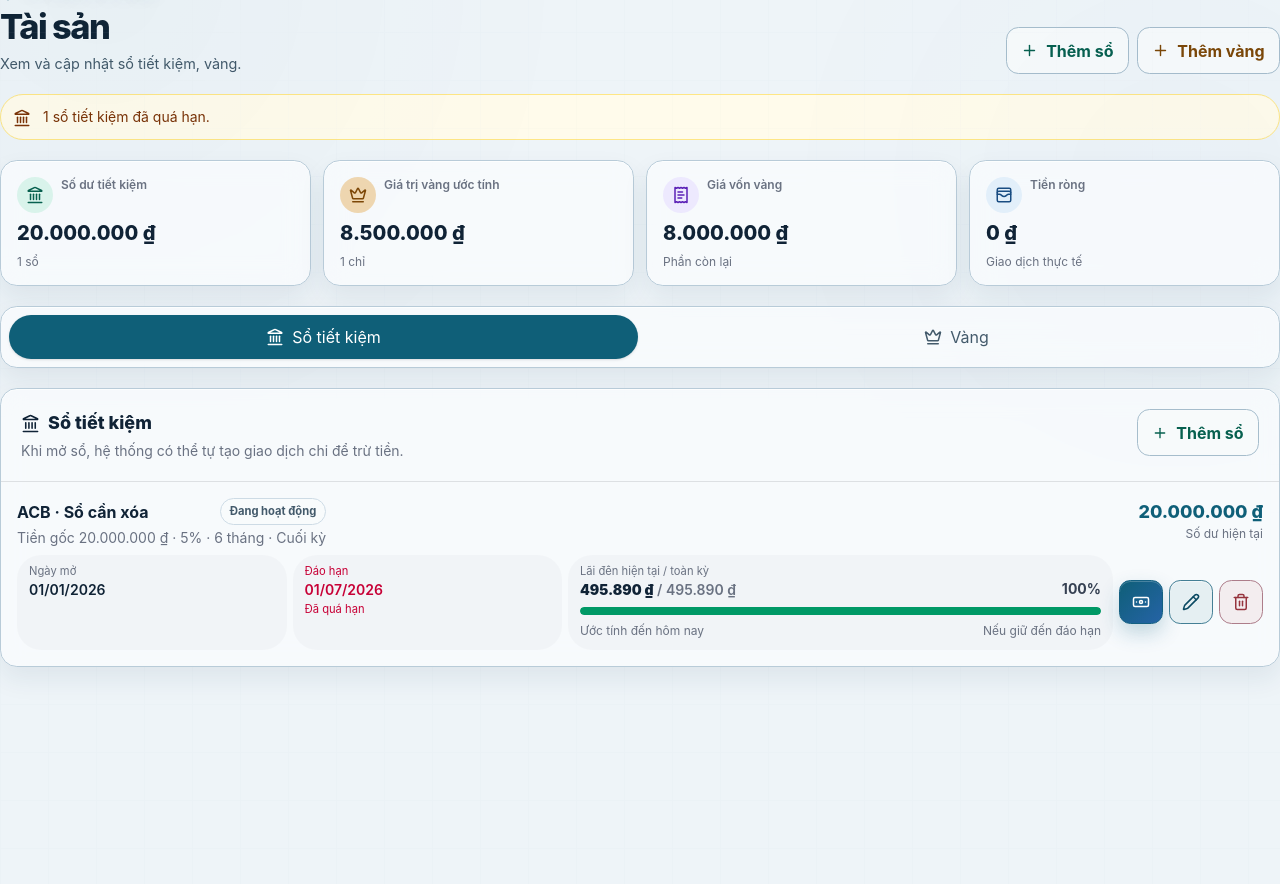
Tài sản › hiển thị sổ tiết kiệm và vàng trong hai tab riêng
Expected: the heading "ACB · Sổ cần xóa" is shown, [17, 502, 148, 522]
Click the tab "Vàng".
click(956, 337)  # box [642, 315, 1271, 359]
(page scrolled)
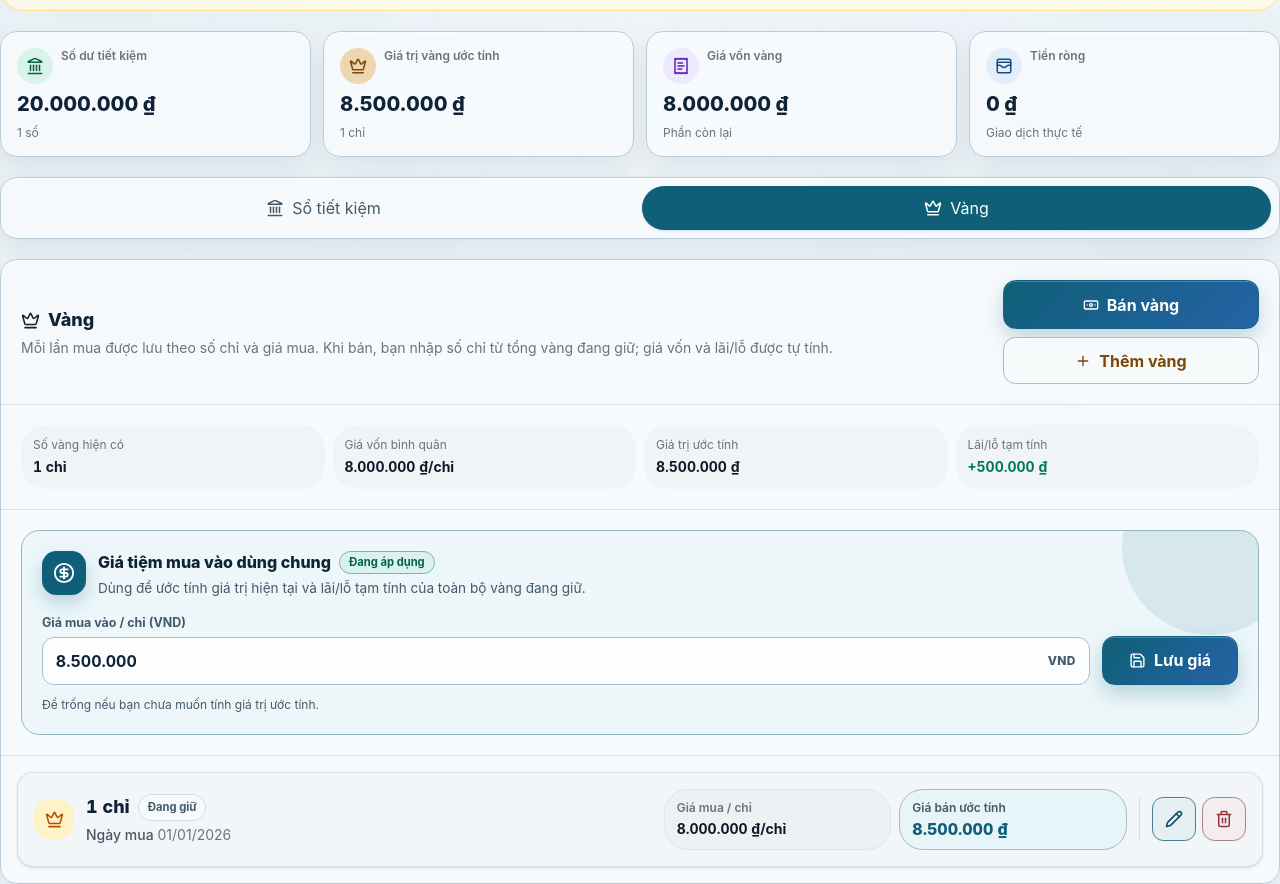
Expected: the heading "1 chỉ" is shown, [86, 793, 130, 821]
